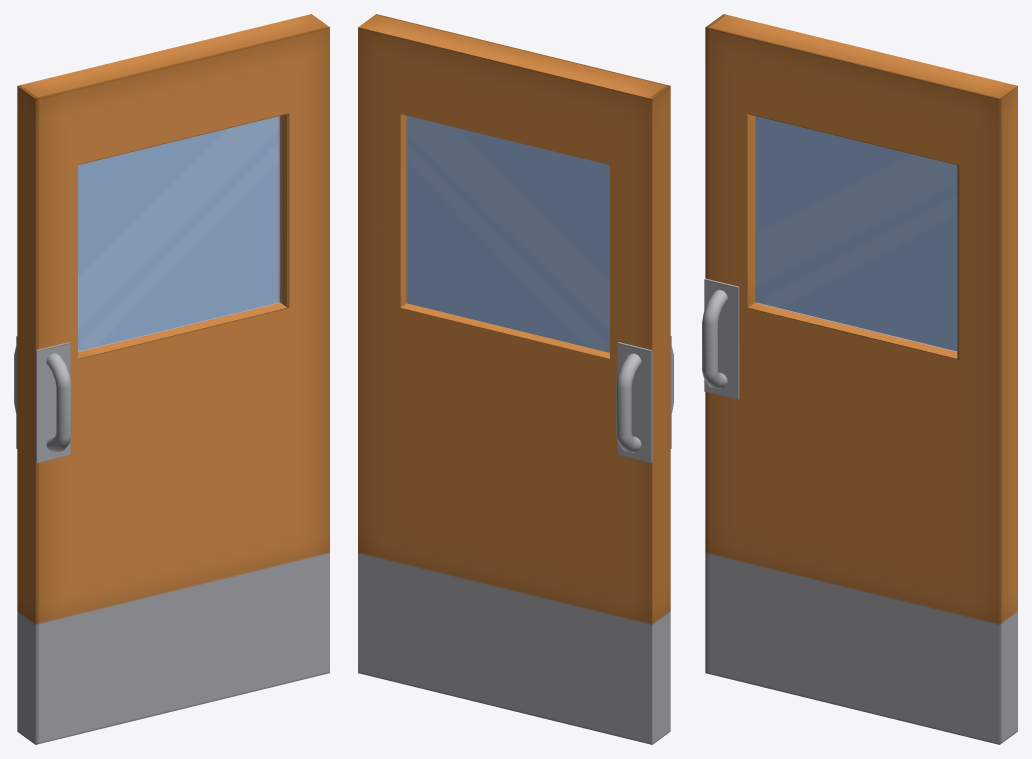
File: L_Door.fbx
3 views of the same model, side by side, from view 1: azimuth 30°, elevation 25°; view 2: azimuth 150°, elevation 25°; view 3: azimuth 330°, elevation 25° (orthographic).
Visible parts, largest first — view 1: L_Door1, Window1; view 2: L_Door1, Window1; view 3: L_Door1, Window1.
Boxes of the visible parts, bbox=[...] form: L_Door1: bbox=[14, 14, 329, 744]; Window1: bbox=[78, 116, 279, 351]; L_Door1: bbox=[358, 14, 673, 744]; Window1: bbox=[406, 116, 609, 352]; L_Door1: bbox=[702, 14, 1017, 744]; Window1: bbox=[755, 116, 957, 351].
Bounding box in the file's own units: 2.27 × 4.76 × 0.667.
Materials: 1 (1 with a texture image).
